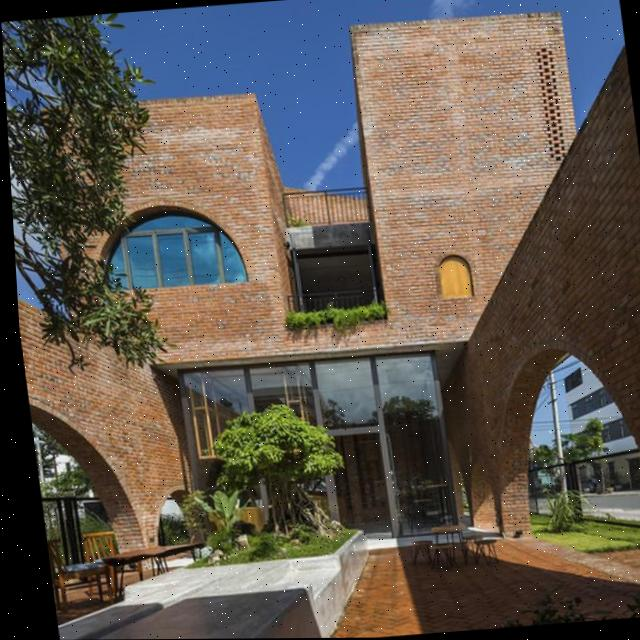building: (0, 0, 640, 569)
